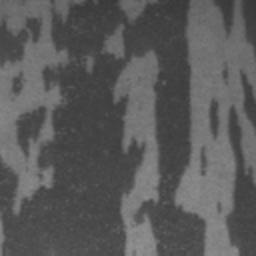Red iron sheet: (0, 0, 207, 256), (210, 72, 256, 256), (214, 0, 256, 52), (12, 72, 23, 94), (222, 62, 229, 84)
